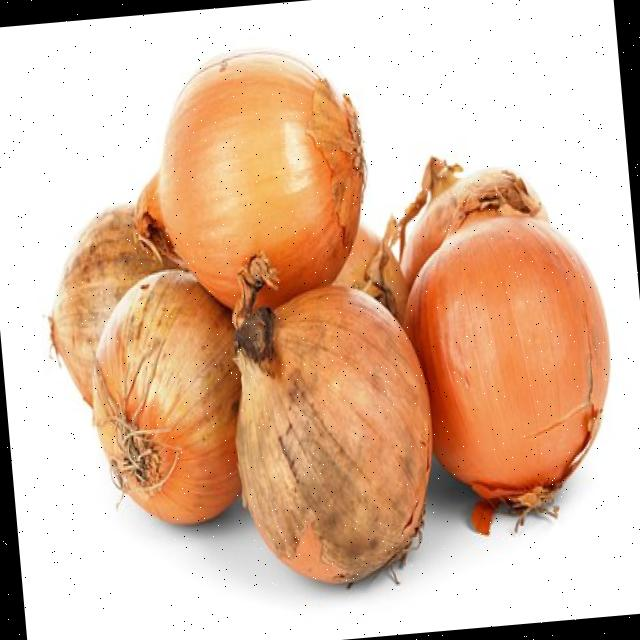Onion: (233, 253, 433, 582), (137, 51, 365, 309), (404, 214, 610, 499), (93, 272, 241, 522), (49, 204, 177, 405)
